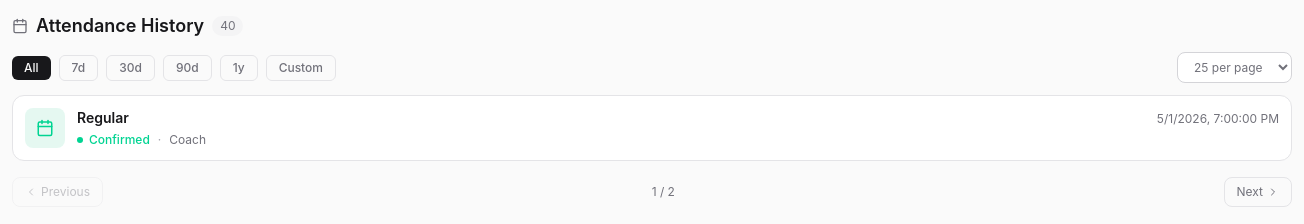
Test: AttendanceHistorySection (member variant) › paginates when there is more than one page
Expected: the text "1 / 2" is shown, x1=652 y1=184 x2=675 y2=200
Expected: the button "Previous" is disabled, x1=12 y1=177 x2=103 y2=207
Click the button "Next": (1258, 192) x1=1224 y1=177 x2=1292 y2=207
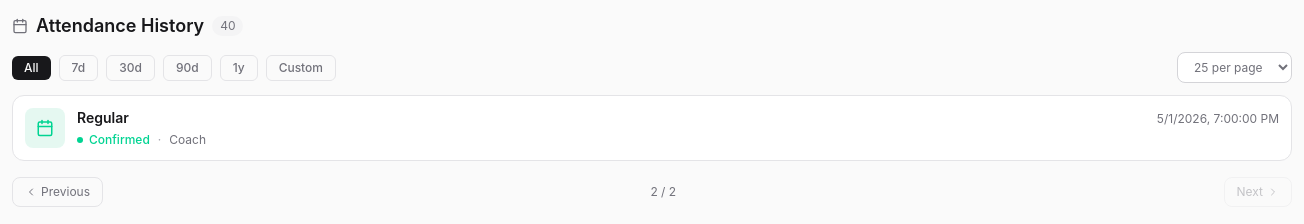
Now the text "2 / 2" is shown, box x1=650 y1=184 x2=676 y2=200
